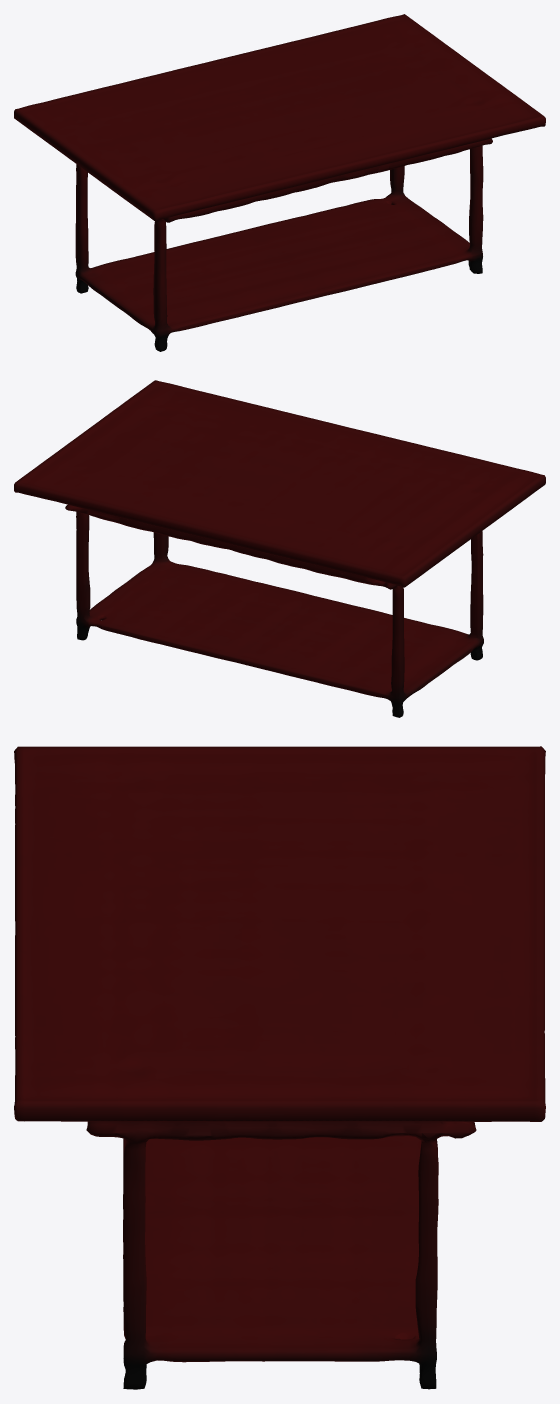
File: Rectangular wooden table with a dark red finish an.glb
3 views of the same model, one above another, from view 1: azimuth 30°, elevation 25°; view 2: azimuth 150°, elevation 25°; view 3: azimuth 270°, elevation 25° (orthographic). The views are drawn at different scales.
Visible parts, largest first — view 1: Rectangular wooden table with a dark red finish an; view 2: Rectangular wooden table with a dark red finish an; view 3: Rectangular wooden table with a dark red finish an.
Boxes of the visible parts, x1=… form: Rectangular wooden table with a dark red finish an: x1=14, y1=14, x2=545, y2=351; Rectangular wooden table with a dark red finish an: x1=14, y1=380, x2=545, y2=717; Rectangular wooden table with a dark red finish an: x1=14, y1=746, x2=545, y2=1389.
Size of the model in its own units: 1.98 by 0.8253 by 1.24.
